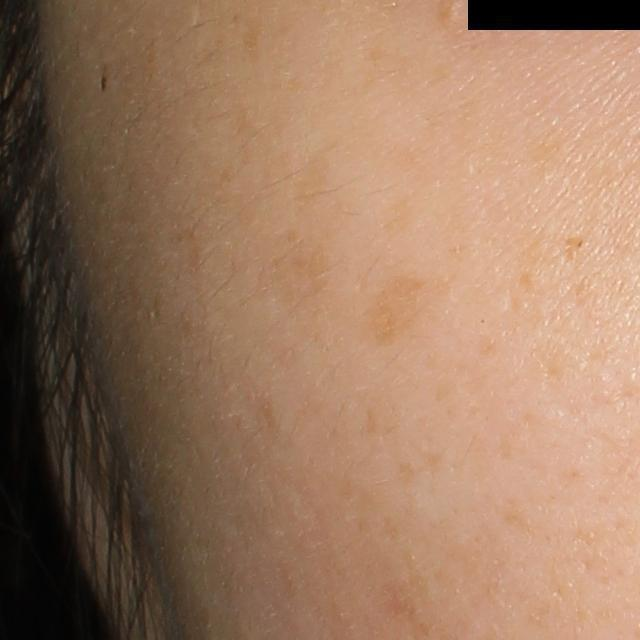melasma: (361, 271, 441, 356), (287, 144, 337, 219), (236, 4, 269, 63), (562, 230, 590, 266)
nevus: (97, 73, 108, 94)
